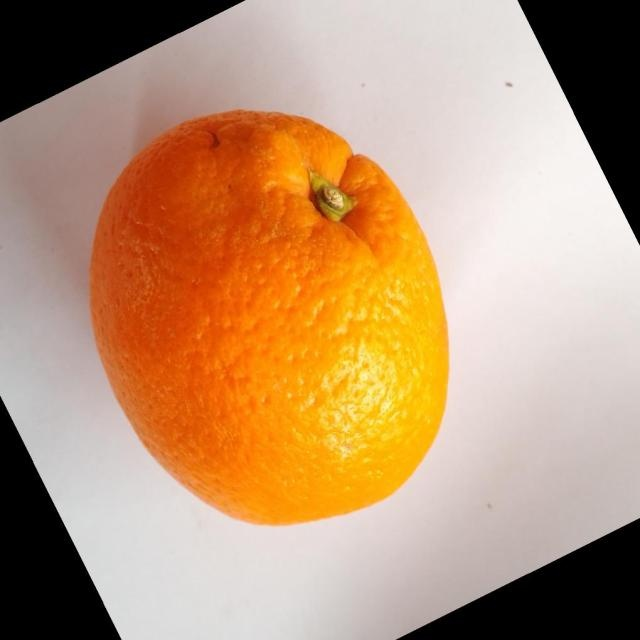agrume: (88, 107, 450, 526)
